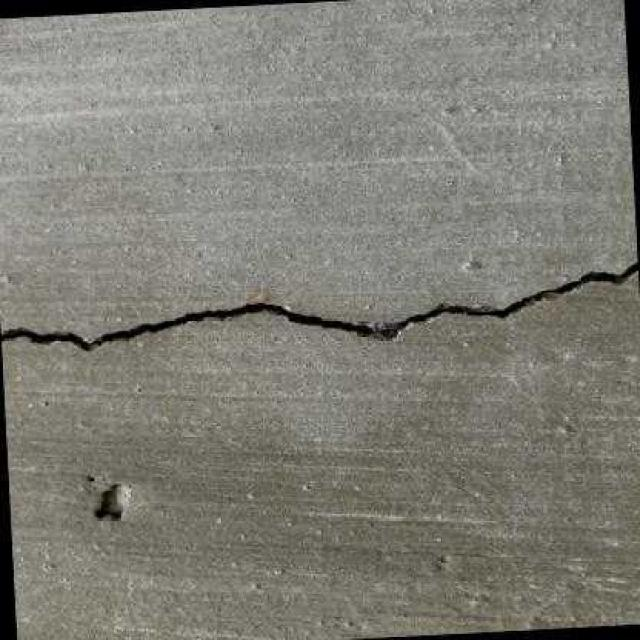D00: (0, 257, 638, 352)
